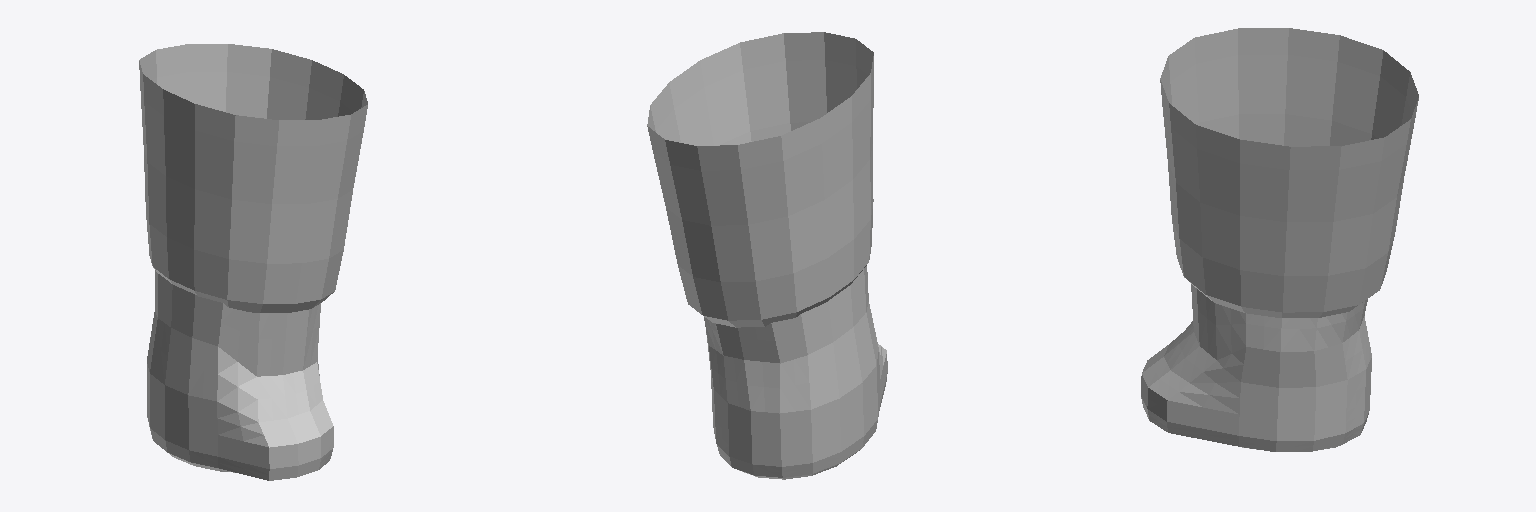
Rendered from PinkKnightLeg1.obj.
The picture shows the model from 3 angles: view 1: azimuth 30°, elevation 25°; view 2: azimuth 150°, elevation 25°; view 3: azimuth 270°, elevation 25°; orthographic projection.
Parts seen in each view (by area): view 1: KNIGHT Right_LEG Right_LEG1 meshes polySurface1 polySurface54, KNIGHT Right_LEG Right_LEG1 meshes polySurface53 polySurface1; view 2: KNIGHT Right_LEG Right_LEG1 meshes polySurface1 polySurface54, KNIGHT Right_LEG Right_LEG1 meshes polySurface53 polySurface1; view 3: KNIGHT Right_LEG Right_LEG1 meshes polySurface1 polySurface54, KNIGHT Right_LEG Right_LEG1 meshes polySurface53 polySurface1.
Boxes of the visible parts, x1,y1,x2,y2 form: KNIGHT Right_LEG Right_LEG1 meshes polySurface1 polySurface54: [139, 44, 367, 312]; KNIGHT Right_LEG Right_LEG1 meshes polySurface53 polySurface1: [147, 270, 333, 480]; KNIGHT Right_LEG Right_LEG1 meshes polySurface1 polySurface54: [647, 32, 873, 327]; KNIGHT Right_LEG Right_LEG1 meshes polySurface53 polySurface1: [704, 266, 887, 479]; KNIGHT Right_LEG Right_LEG1 meshes polySurface1 polySurface54: [1160, 28, 1418, 317]; KNIGHT Right_LEG Right_LEG1 meshes polySurface53 polySurface1: [1141, 284, 1371, 451].
Bounding box in the file's own units: 17.38 × 33.35 × 22.45.